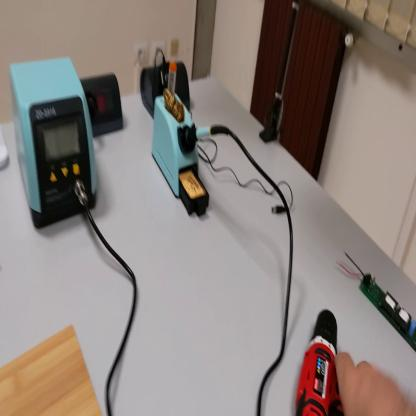electric screwdriver: (294, 306, 349, 416)
hand: (333, 348, 413, 415)
high voltage board: (336, 249, 415, 353)
socket: (142, 60, 194, 120), (80, 71, 125, 138)
welder base: (153, 60, 211, 221)
welder station: (8, 52, 98, 235)
working area: (2, 325, 105, 416)
